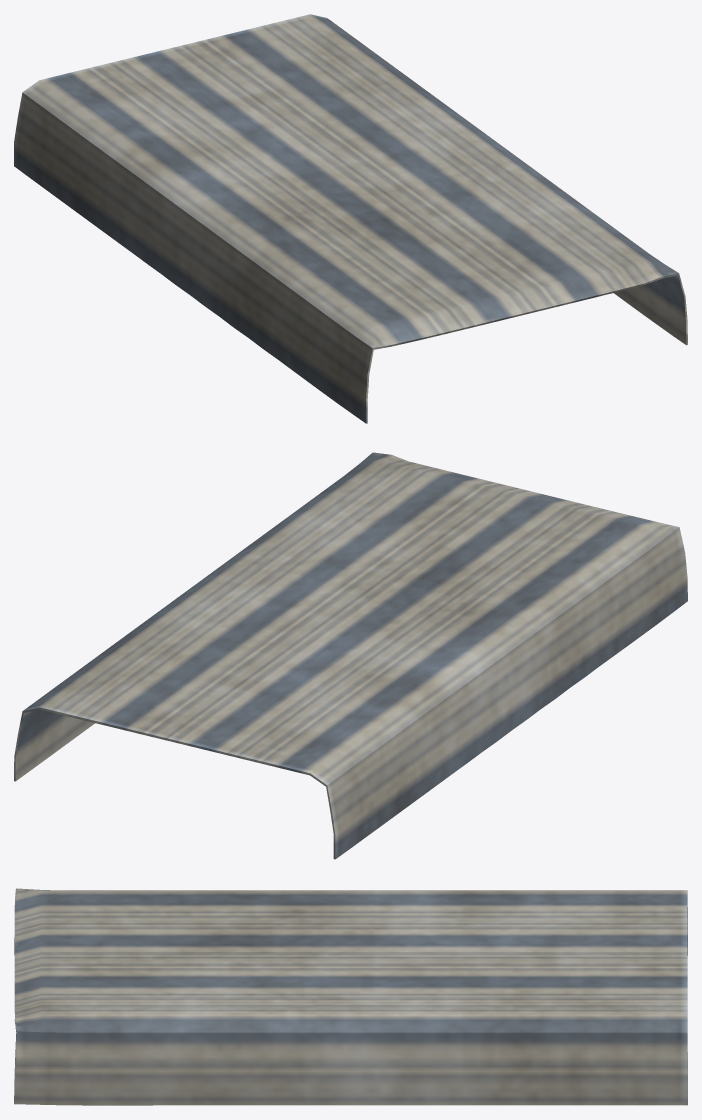
The model's file is single_bedsheet_2.fbx.
The picture shows the model from 3 angles, top to bottom: view 1: azimuth 30°, elevation 25°; view 2: azimuth 150°, elevation 25°; view 3: azimuth 270°, elevation 25°; orthographic projection. The views are drawn at different scales.
Visible parts, largest first — view 1: single_bedsheet_2; view 2: single_bedsheet_2; view 3: single_bedsheet_2.
Boxes of the visible parts, x1,y1,x2,y2 form: single_bedsheet_2: [14, 14, 687, 423]; single_bedsheet_2: [14, 452, 687, 859]; single_bedsheet_2: [14, 888, 687, 1105].
Bounding box in the file's own units: 1.18 × 0.2803 × 2.23.
